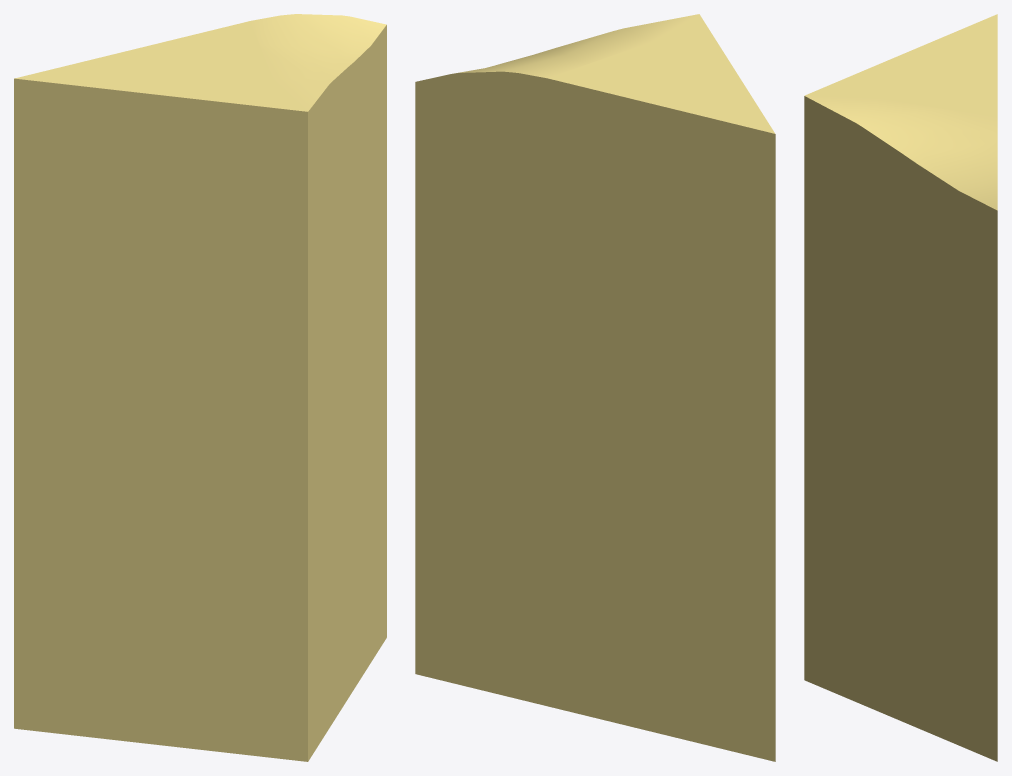
The model's file is Corner_CounterConcave.glb.
3 renders of one model, left to right at view 1: azimuth 30°, elevation 25°; view 2: azimuth 150°, elevation 25°; view 3: azimuth 270°, elevation 25°, orthographic. The views are drawn at different scales.
Visible parts, largest first — view 1: Corner_CounterConcave; view 2: Corner_CounterConcave; view 3: Corner_CounterConcave.
Boxes of the visible parts, x1,y1,x2,y2 form: Corner_CounterConcave: (14,14,386,761); Corner_CounterConcave: (415,14,775,761); Corner_CounterConcave: (804,14,997,761).
Size of the model in its own units: 0.3 by 0.5 by 0.15.
